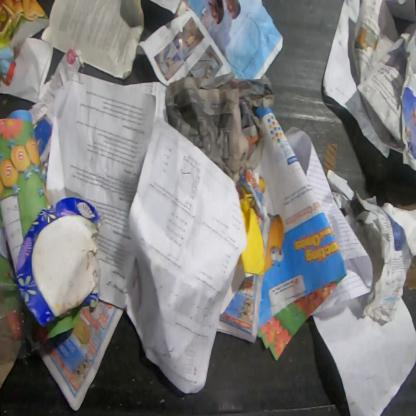cardboard: (14, 197, 102, 328), (0, 0, 50, 87), (0, 361, 15, 392)
soft_plastic: (0, 278, 42, 363)
